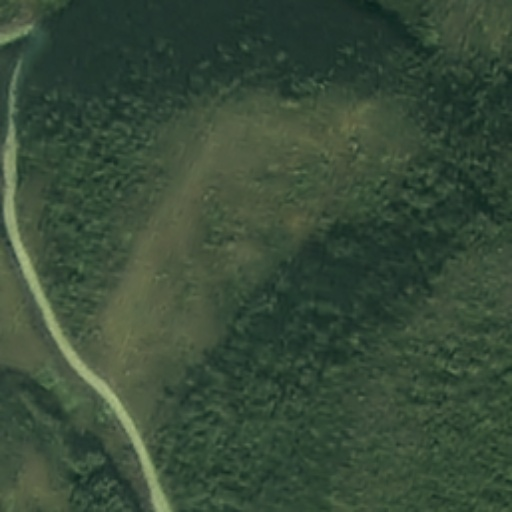landslide: (99, 116, 361, 369)
